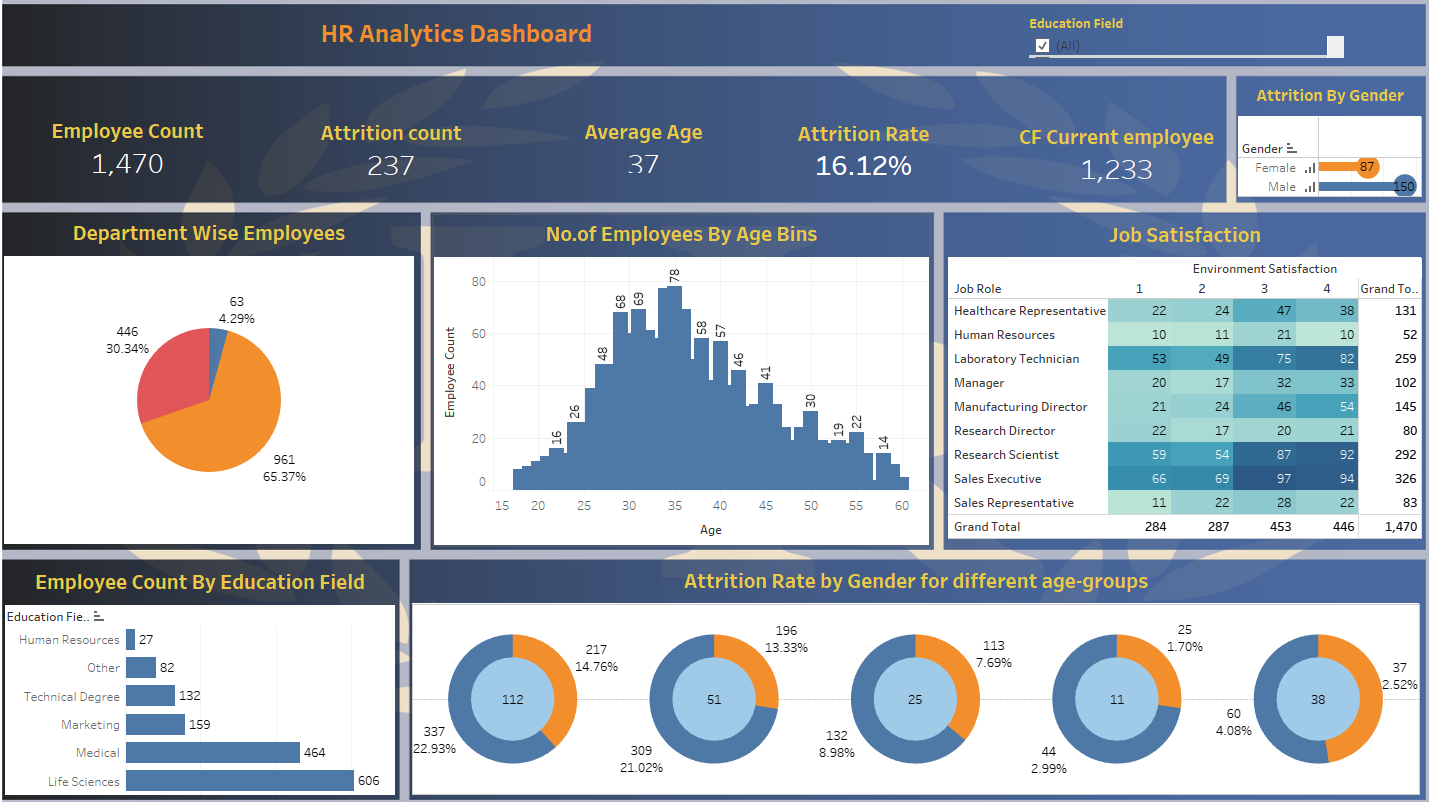

The dashboard page shown, as its layout file describes it:
{"tool":"tableau","page":{"name":"Dashboard 1","canvas":[1000,1000],"units":"permille","ordinal":0},"visuals":[{"type":"image","param":"C:/Users/nites/OneDrive/Desktop/HR.png","box":[4.8,9.5,990.5,981]},{"type":"text","box":[202.1,20.1,166.5,82.6]},{"type":"filter","title":"Education Field wise Employees","param":"[federated.1rlq07u188s5bd1dbgor505tpayb].[none:Education Field:nk]","box":[624.5,40.4,187.2,52.3]},{"type":"worksheet","title":"Attrition by gender","mark":"Line","rows":["Gender"],"cols":["Calculation_926052727589277696","Calculation_926052727589277696"],"box":[748.7,118.8,109.3,139]},{"type":"worksheet","title":"Employee count","mark":"Automatic","box":[29.8,156.2,118,77]},{"type":"worksheet","title":"Average Age","mark":"Automatic","box":[312.5,158.5,165.9,71.4]},{"type":"worksheet","title":"Attrition count","mark":"Automatic","box":[170.6,159.6,149.5,73.7]},{"type":"worksheet","title":"Attrition Rate","mark":"Automatic","box":[443.3,160.7,165.9,72.5]},{"type":"worksheet","title":"Cf Current Employee","mark":"Automatic","box":[589.4,164.1,174.1,81.5]},{"type":"worksheet","title":"Department wise Employees","mark":"Pie","box":[15.5,277.9,243.6,391.9]},{"type":"worksheet","title":"No.of Employees by Age Bins","mark":"Bar","rows":["Employee Count"],"cols":["Age"],"box":[270.9,279.1,294.1,391.9]},{"type":"worksheet","title":"Job satisfaction","mark":"Square","rows":["Job Role"],"cols":["Environment Satisfaction"],"box":[576.4,280.3,281.6,383.6]},{"type":"worksheet","title":"Attrition rate by Gender ","mark":"Pie","rows":["Calculation_926052727655288840","Calculation_926052727655321610"],"cols":["CF_age band"],"box":[257.9,691.2,598.9,276.7]},{"type":"worksheet","title":"Education Field wise Employees","mark":"Automatic","rows":["Education Field"],"cols":["Employee Count"],"box":[16,692.4,231.7,275.5]}]}

Visuals, with their boxes on the dashboard's canvas, which has no fixed pixel size, in thousandths of its width and height (x1, y1, x2, y2). These are canvas units, not pixel positions in the 1429x802 screenshot, which may show the page scaled, cropped or inside an application window:
image: 5/10/995/990
text: 202/20/369/103
"Education Field wise Employees" filter: 624/40/812/93
"Attrition by gender" worksheet (Line marks): 749/119/858/258
"Employee count" worksheet: 30/156/148/233
"Average Age" worksheet: 312/158/478/230
"Attrition count" worksheet: 171/160/320/233
"Attrition Rate" worksheet: 443/161/609/233
"Cf Current Employee" worksheet: 589/164/764/246
"Department wise Employees" worksheet (Pie marks): 16/278/259/670
"No.of Employees by Age Bins" worksheet (Bar marks): 271/279/565/671
"Job satisfaction" worksheet (Square marks): 576/280/858/664
"Attrition rate by Gender " worksheet (Pie marks): 258/691/857/968
"Education Field wise Employees" worksheet: 16/692/248/968
